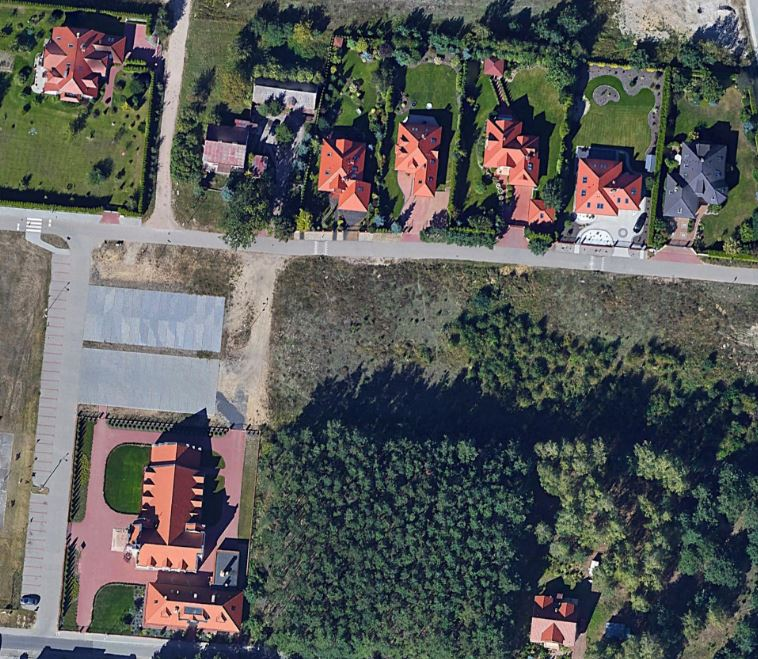block of flats: (136, 585, 253, 636)
church: (127, 430, 211, 577)
family house: (30, 15, 133, 107), (659, 138, 737, 221), (571, 152, 647, 222), (479, 113, 541, 192), (318, 133, 373, 219), (392, 117, 445, 201), (518, 587, 584, 653), (200, 120, 257, 178)
garage: (246, 70, 323, 114)
